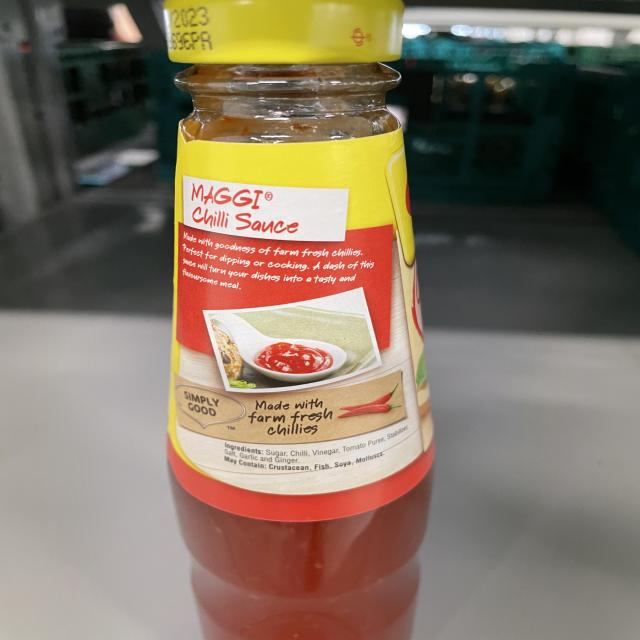object_name: (169, 1, 428, 640)
